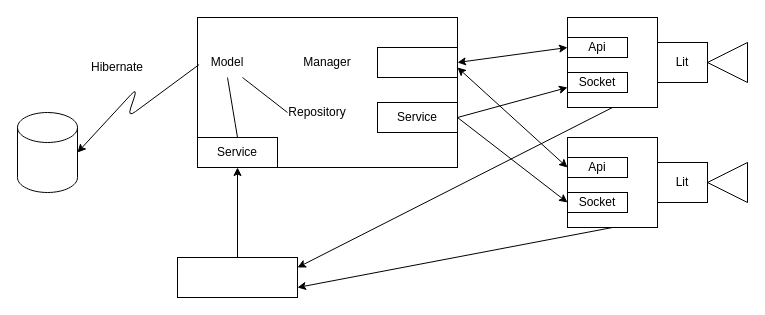
The diagram is 765 pixels wide and 315 high, and some of its shapes have lost their labels. The shapes that lost their labels are listed below. From the top down, each one's centre as x and y in pixels, then its label:
point (417, 62): Rest
point (47, 152): DB
point (237, 277): KeyCloak
